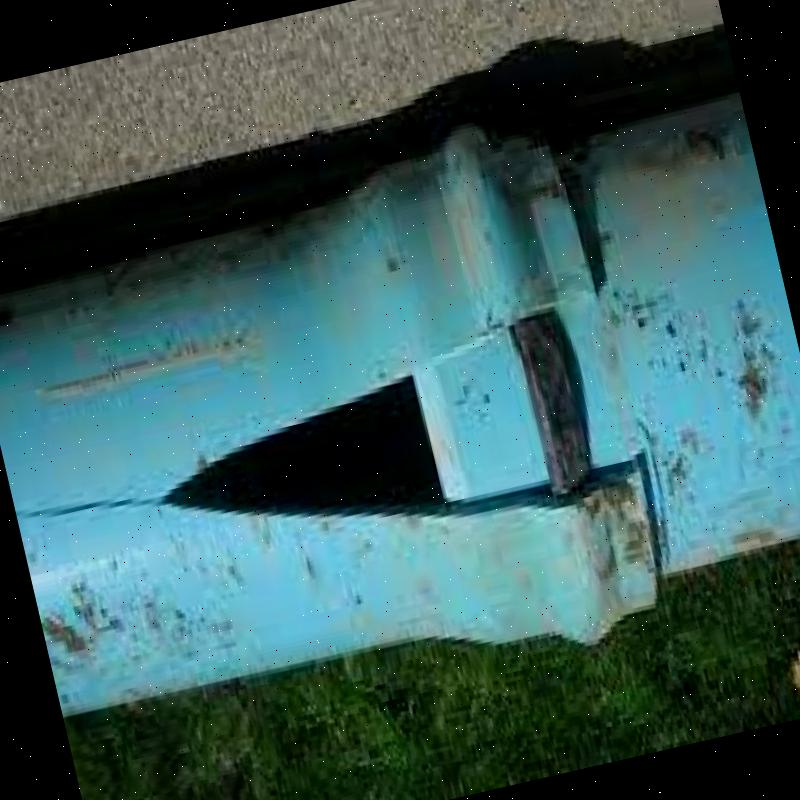Fracture: (182, 397, 447, 551)
